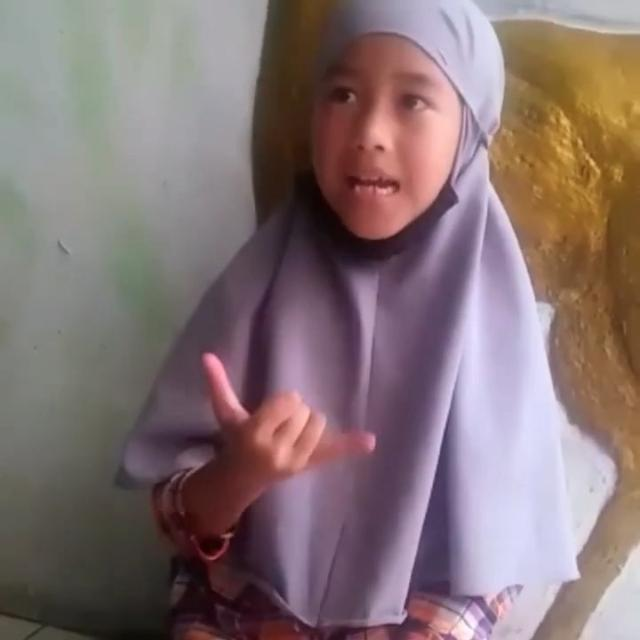Y: (202, 348, 382, 480)
